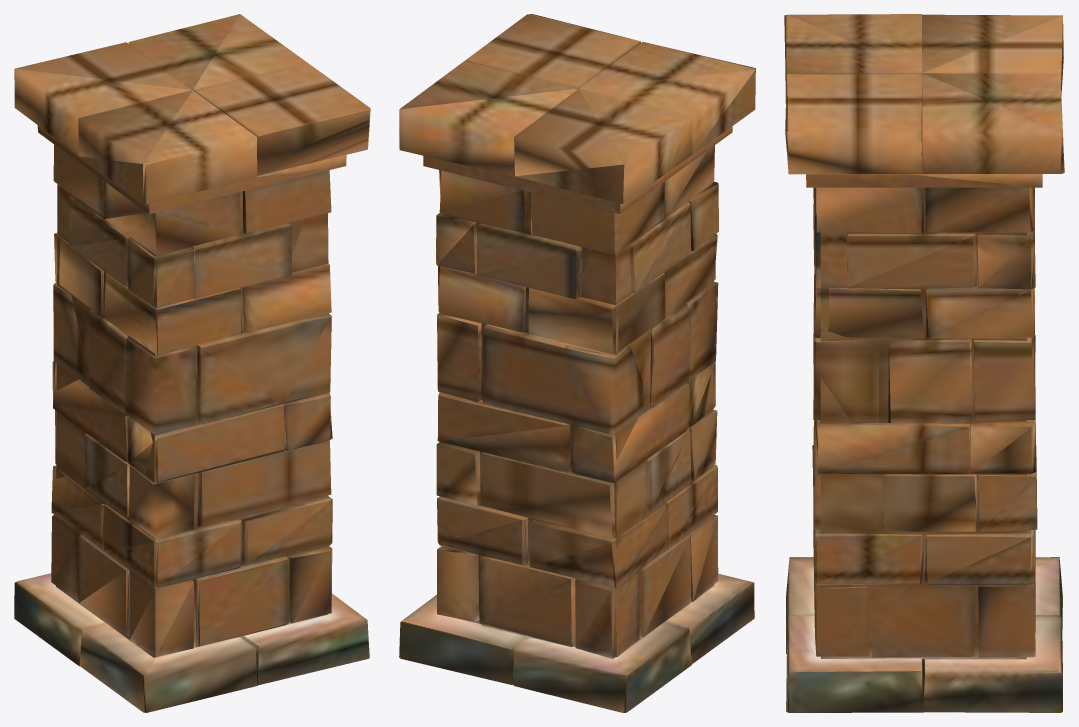
The model's file is chimney.lod1.glb.
3 renders of one model, left to right at view 1: azimuth 30°, elevation 25°; view 2: azimuth 150°, elevation 25°; view 3: azimuth 270°, elevation 25°, orthographic. The views are drawn at different scales.
Size of the model in its own units: 0.7 by 1.6 by 0.7.
Materials: 1 (1 with a texture image).
